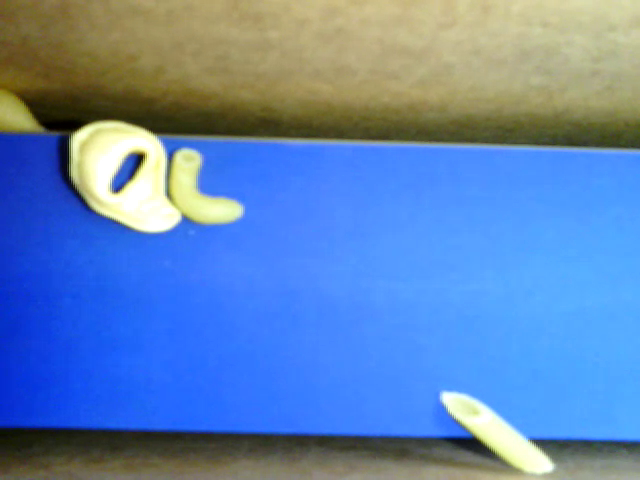elbow: (170, 147, 249, 229), (2, 85, 56, 137)
penne: (435, 390, 557, 476)
tortellini: (65, 112, 183, 236)
